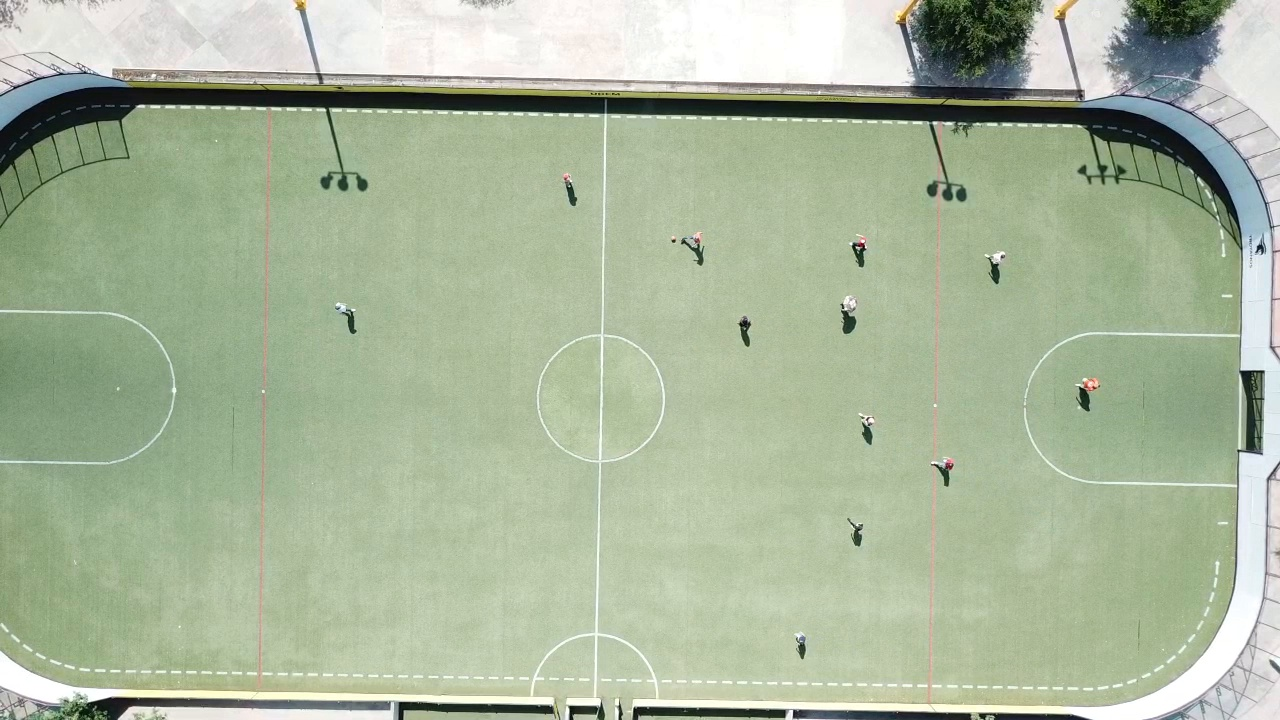ball: (671, 235, 677, 242)
player: (850, 233, 869, 260), (680, 232, 701, 252), (848, 517, 864, 543), (932, 457, 955, 473), (986, 251, 1007, 267), (1077, 377, 1100, 391), (858, 412, 875, 428), (334, 302, 353, 315), (562, 173, 575, 190), (738, 316, 751, 332), (843, 298, 857, 312), (794, 632, 806, 645)
